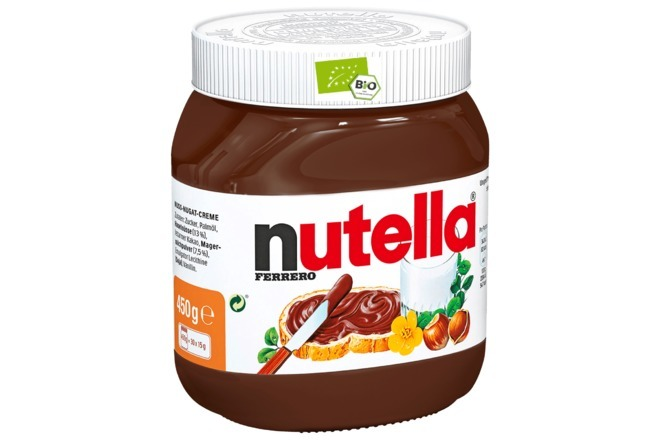nutella: (171, 5, 489, 432)
